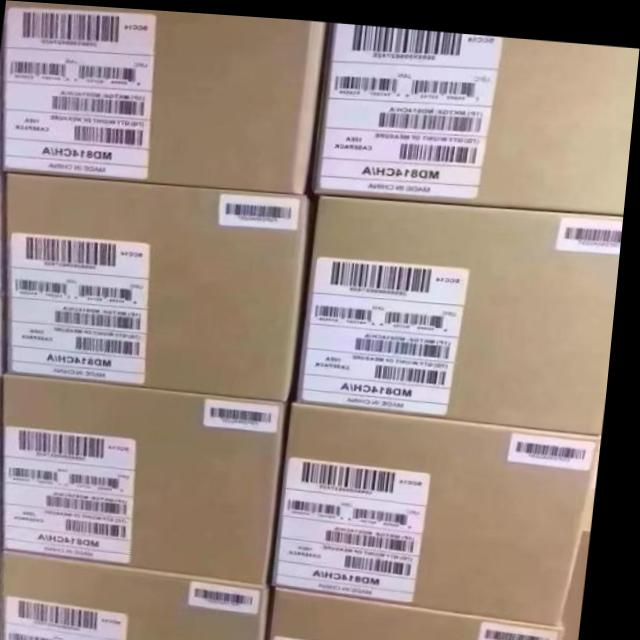box: (304, 190, 627, 425), (280, 399, 609, 619), (5, 171, 315, 400), (1, 0, 326, 190), (311, 18, 639, 204), (9, 375, 298, 583), (11, 553, 280, 640), (278, 583, 575, 640)
